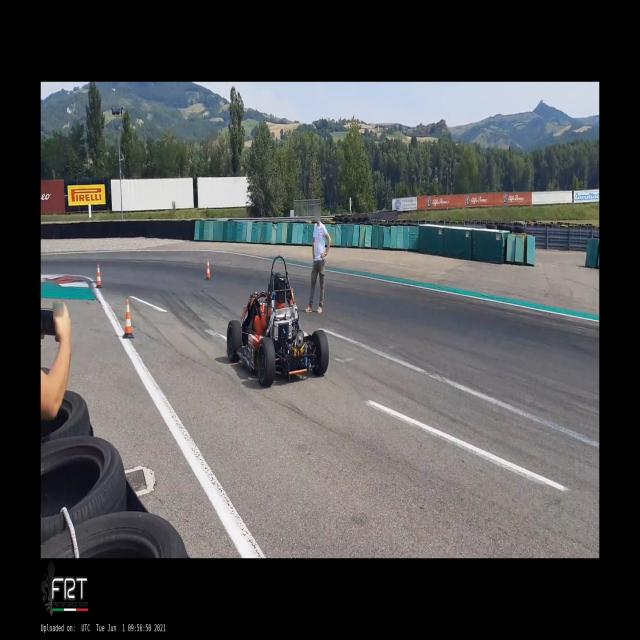large_orange_cone: (122, 299, 134, 338), (96, 264, 103, 288), (205, 259, 212, 280)
